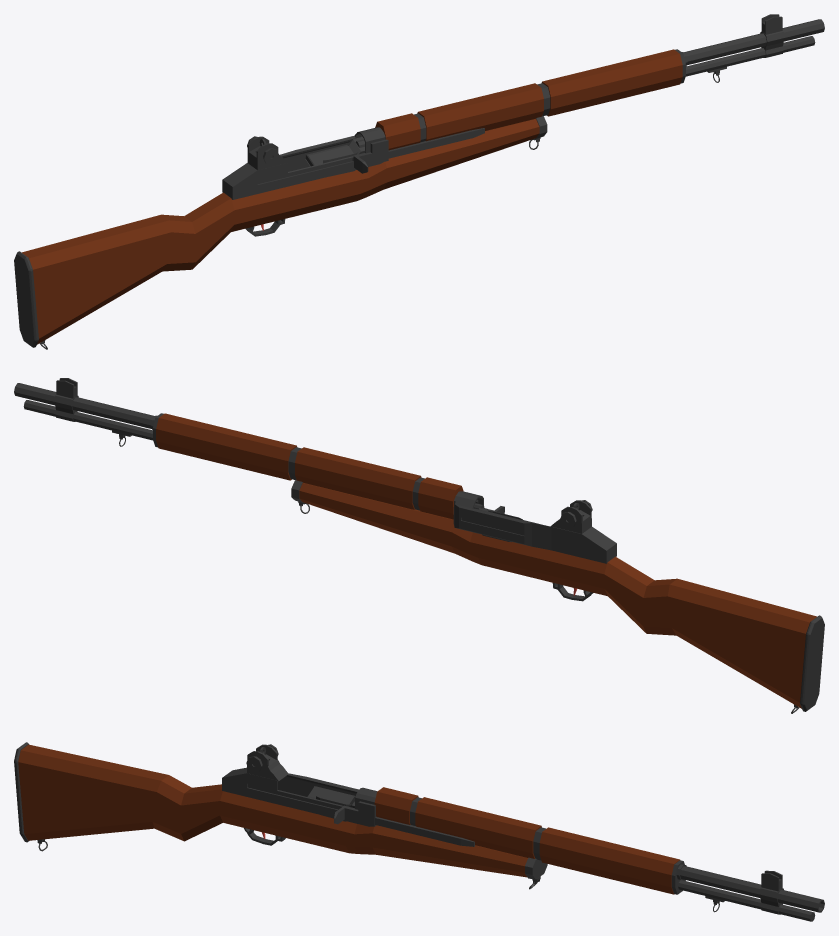
Rendered from m1_garand 1.fbx.
3 renders of one model, top to bottom at view 1: azimuth 30°, elevation 25°; view 2: azimuth 150°, elevation 25°; view 3: azimuth 330°, elevation 25°, orthographic.
Visible parts, largest first — view 1: M1 Garand, M1_Lever; view 2: M1 Garand; view 3: M1 Garand, M1_Lever.
Part boxes in pixels (x1,y1,x2,y2): M1 Garand: [14, 14, 824, 349]; M1_Lever: [306, 140, 368, 173]; M1 Garand: [14, 378, 824, 713]; M1 Garand: [14, 742, 824, 921]; M1_Lever: [307, 786, 355, 824].
Size of the model in its own units: 2.48 by 0.461 by 0.135.
